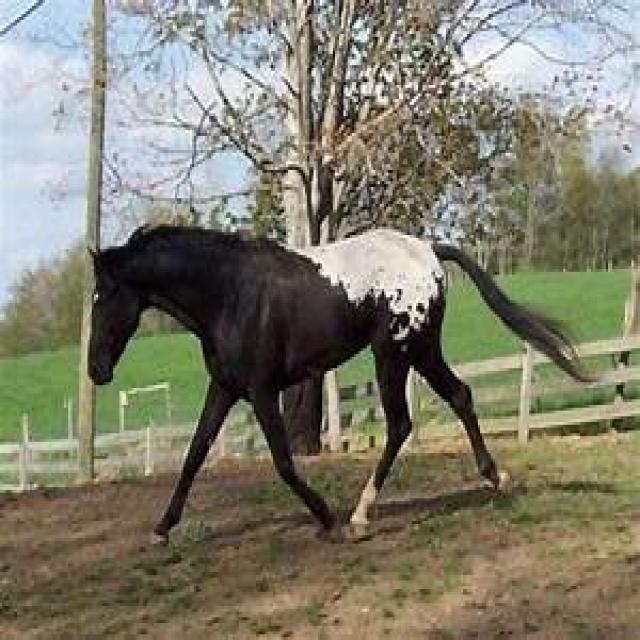horse: (90, 222, 588, 534)
